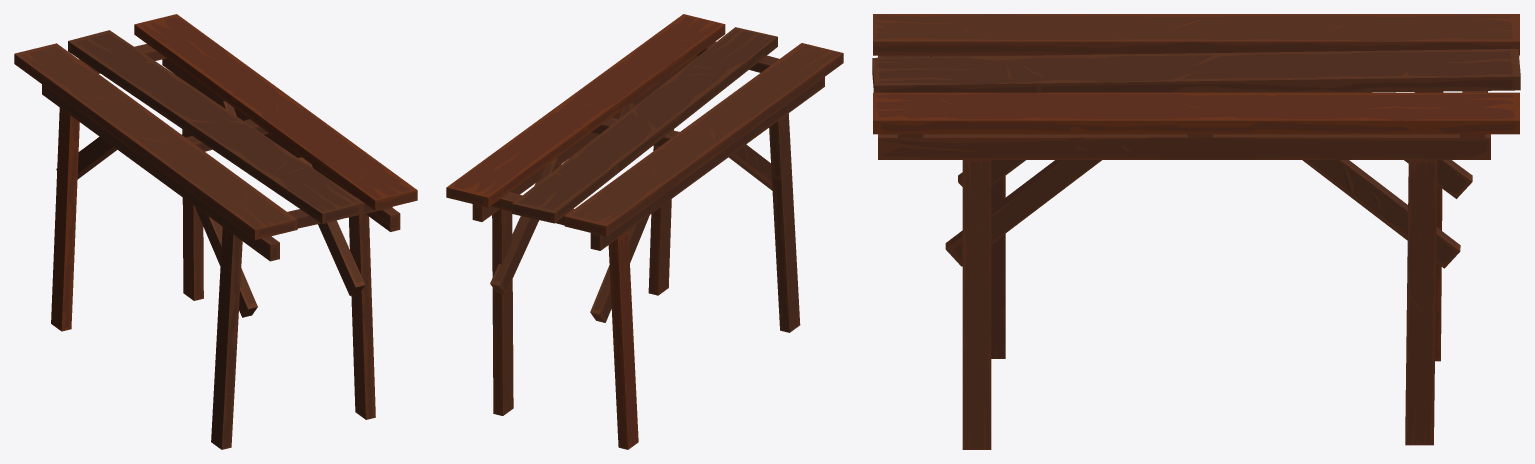
File: ScaffoldingPlateau1.fbx
3 renders of one model, left to right at view 1: azimuth 30°, elevation 25°; view 2: azimuth 150°, elevation 25°; view 3: azimuth 270°, elevation 25°, orthographic. The views are drawn at different scales.
Parts seen in each view (by area): view 1: ScaffoldingPlateau1; view 2: ScaffoldingPlateau1; view 3: ScaffoldingPlateau1.
Part boxes in pixels (x1,y1,x2,y2): ScaffoldingPlateau1: (14, 14, 417, 449); ScaffoldingPlateau1: (446, 14, 843, 449); ScaffoldingPlateau1: (872, 14, 1520, 449).
Bounding box in the file's own units: 271 × 398 × 696.
